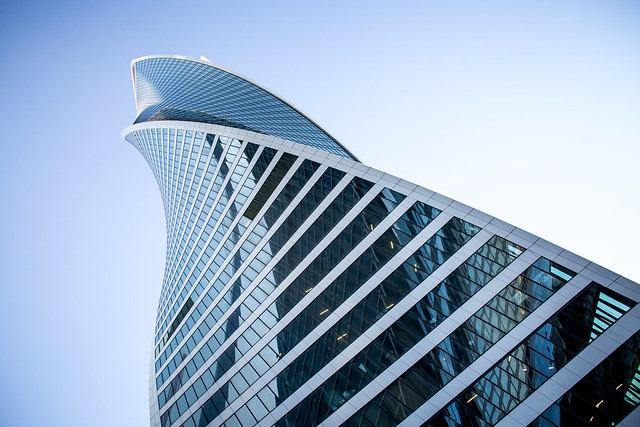high: (119, 44, 638, 426)
